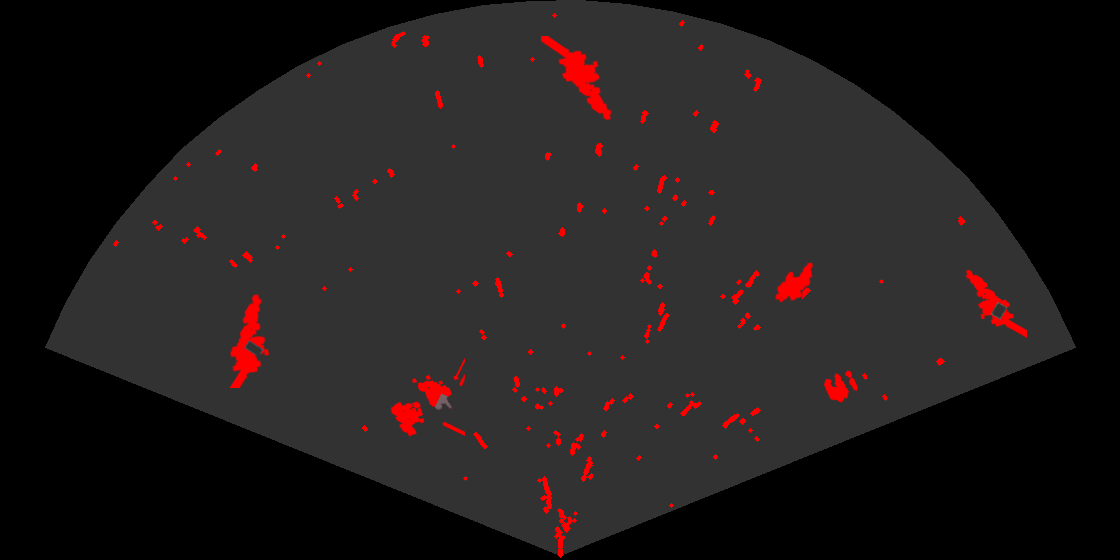AUV: (773, 261, 815, 304)
ball: (822, 369, 859, 404)
cage: (389, 357, 465, 438)
frogman: (541, 36, 613, 122), (964, 268, 1027, 339), (228, 292, 271, 388)
